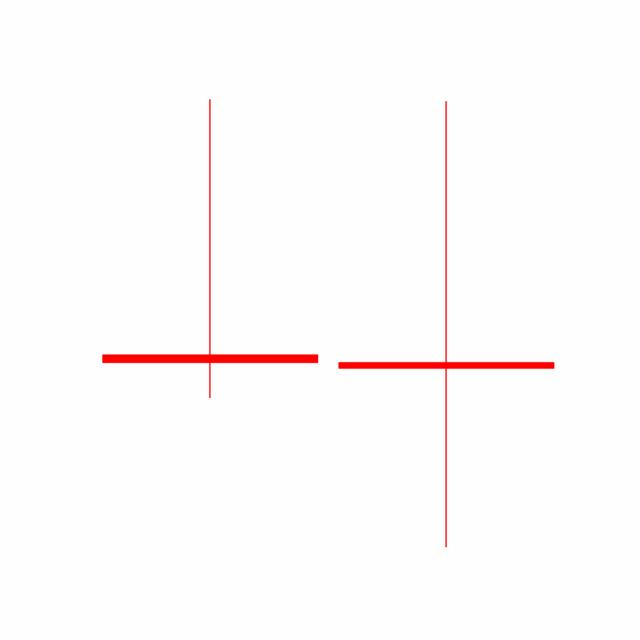Spinning Top: (327, 95, 565, 552)
